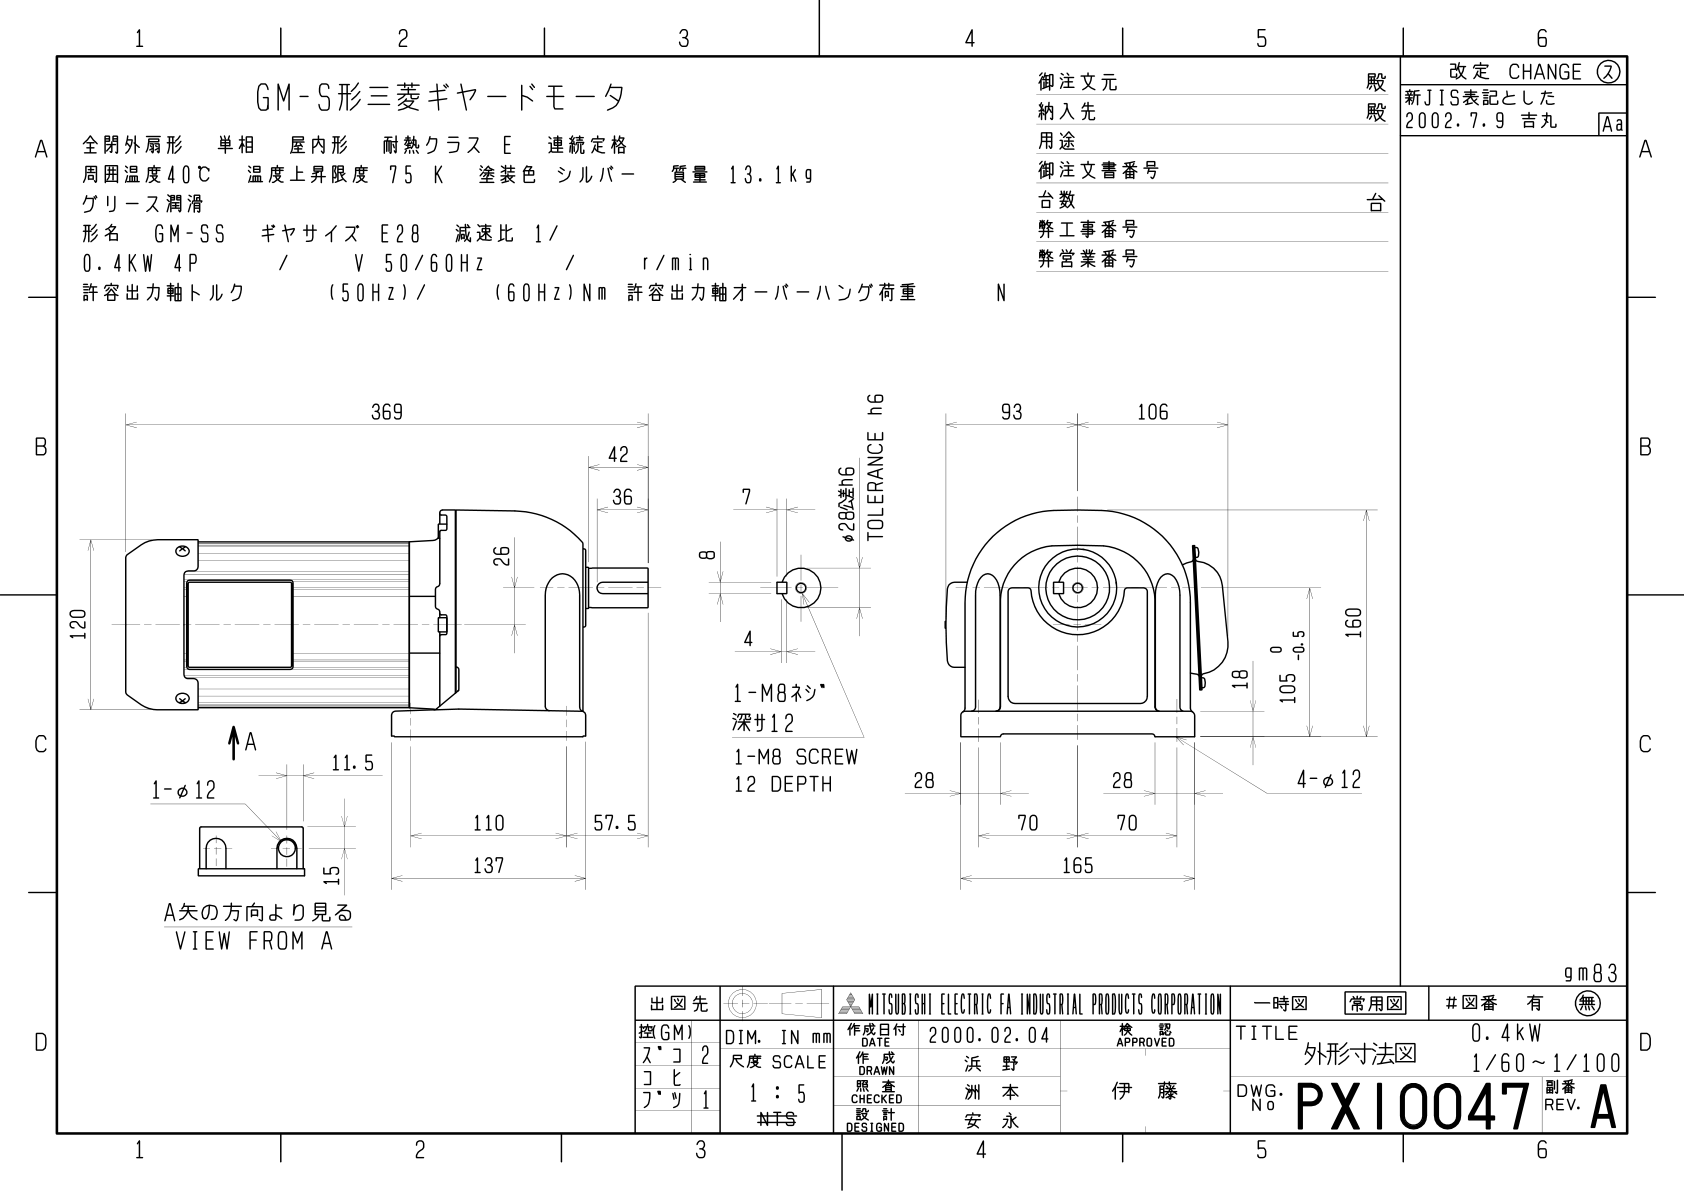GM_S_屋内＿三相_脚: (63, 357, 1385, 963)
